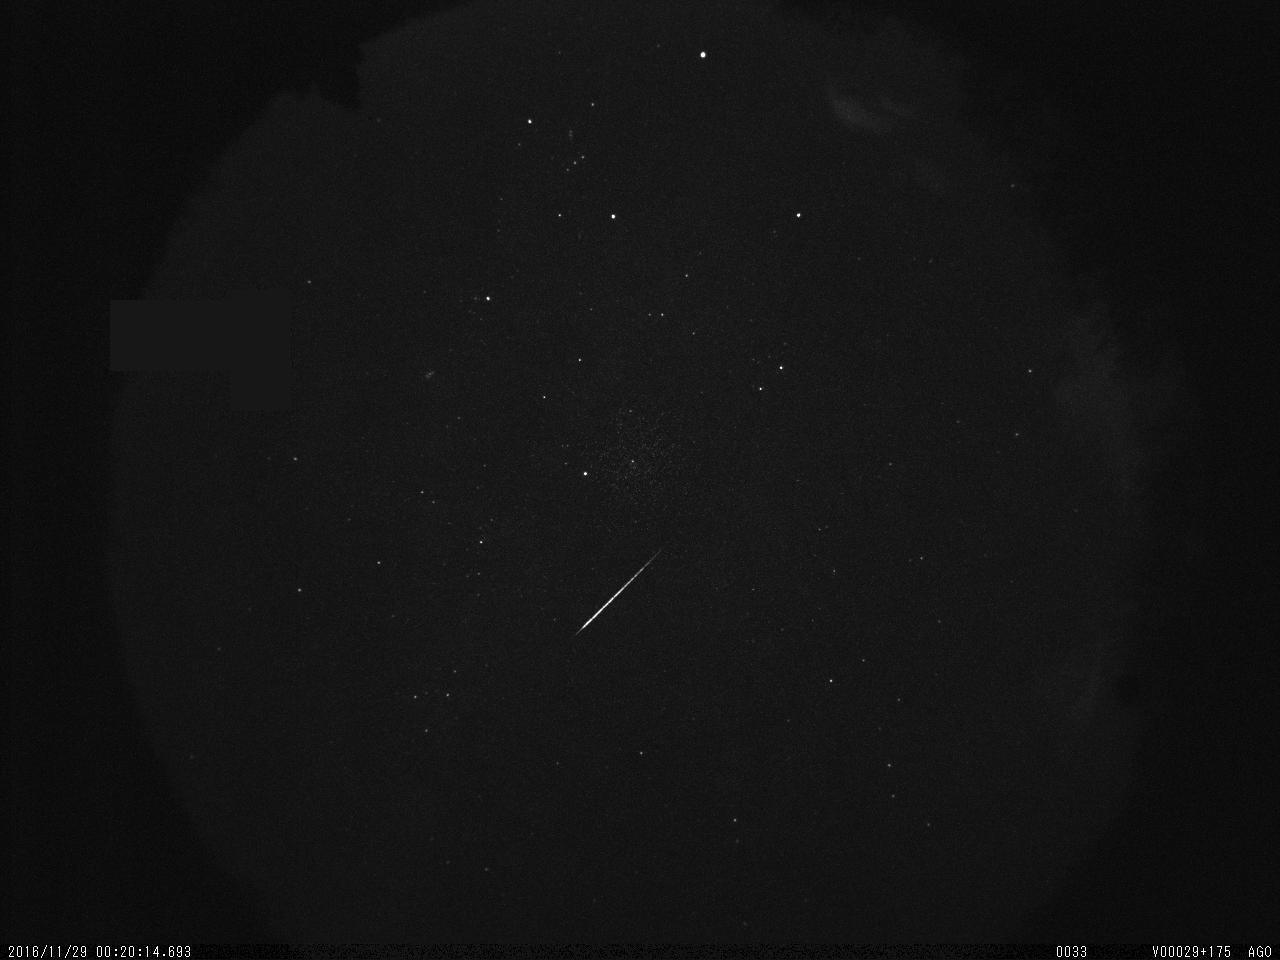meteor: (565, 539, 669, 646)
